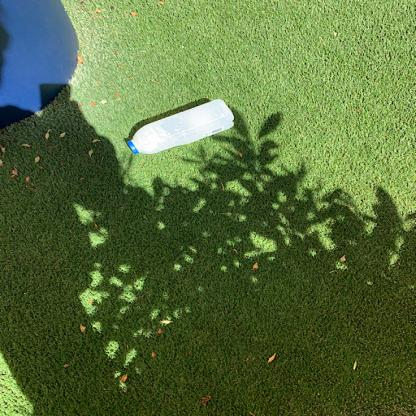trash: (121, 97, 240, 156)
